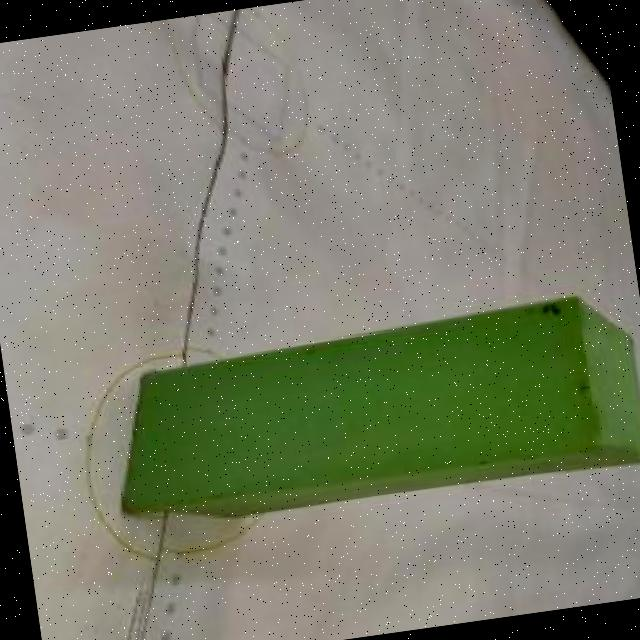greenbox: (99, 287, 640, 538)
